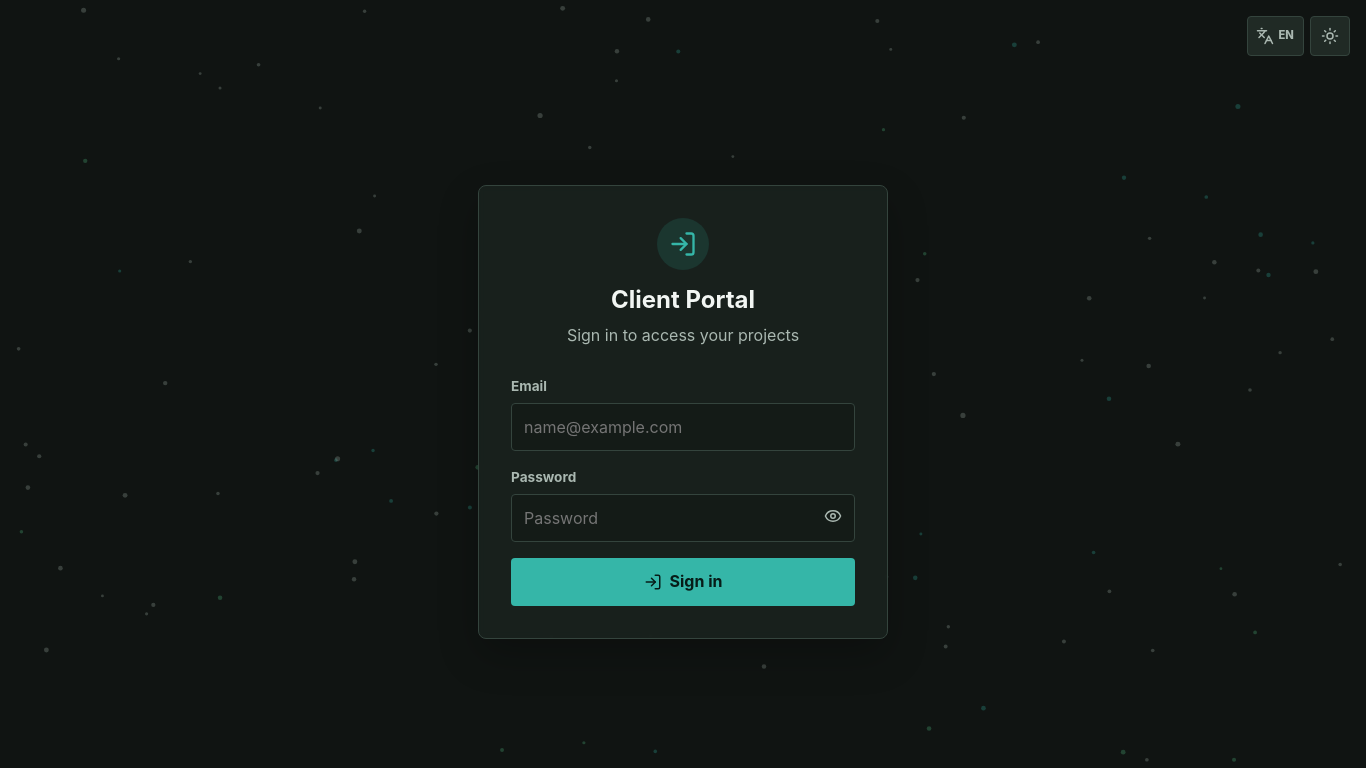
Test: Login › toggles password visibility accessibly
This screenshot has width=1366, height=768.
Step 1. Click the button named "Show password" → (833, 516), box 813,496 -> 853,536
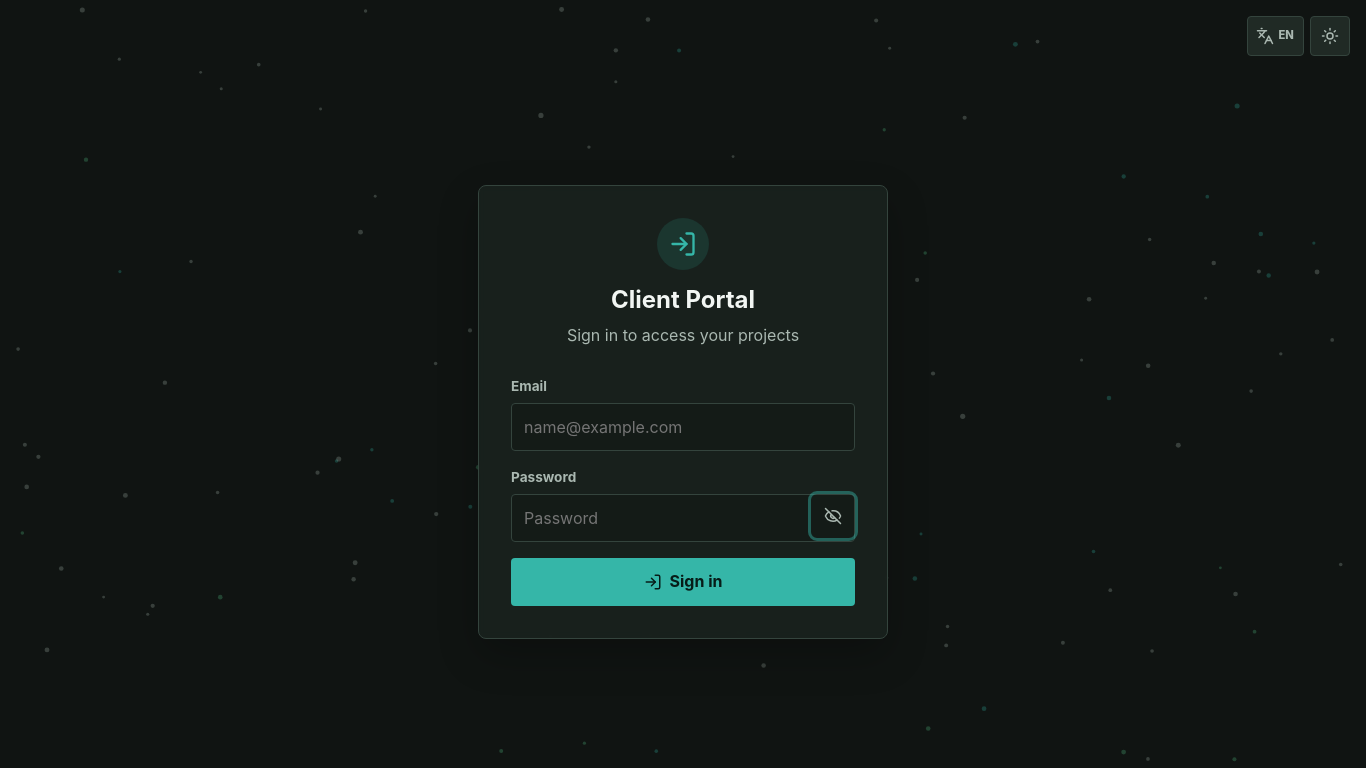
Result: the button named "Hide password" is shown at 813,496 -> 853,536
